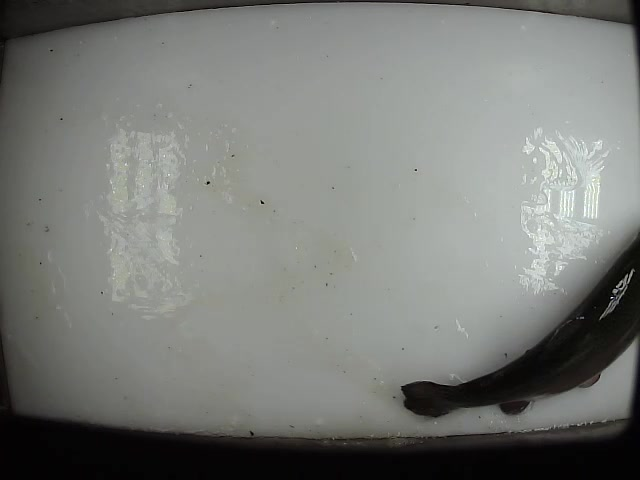fish: (400, 227, 640, 423)
